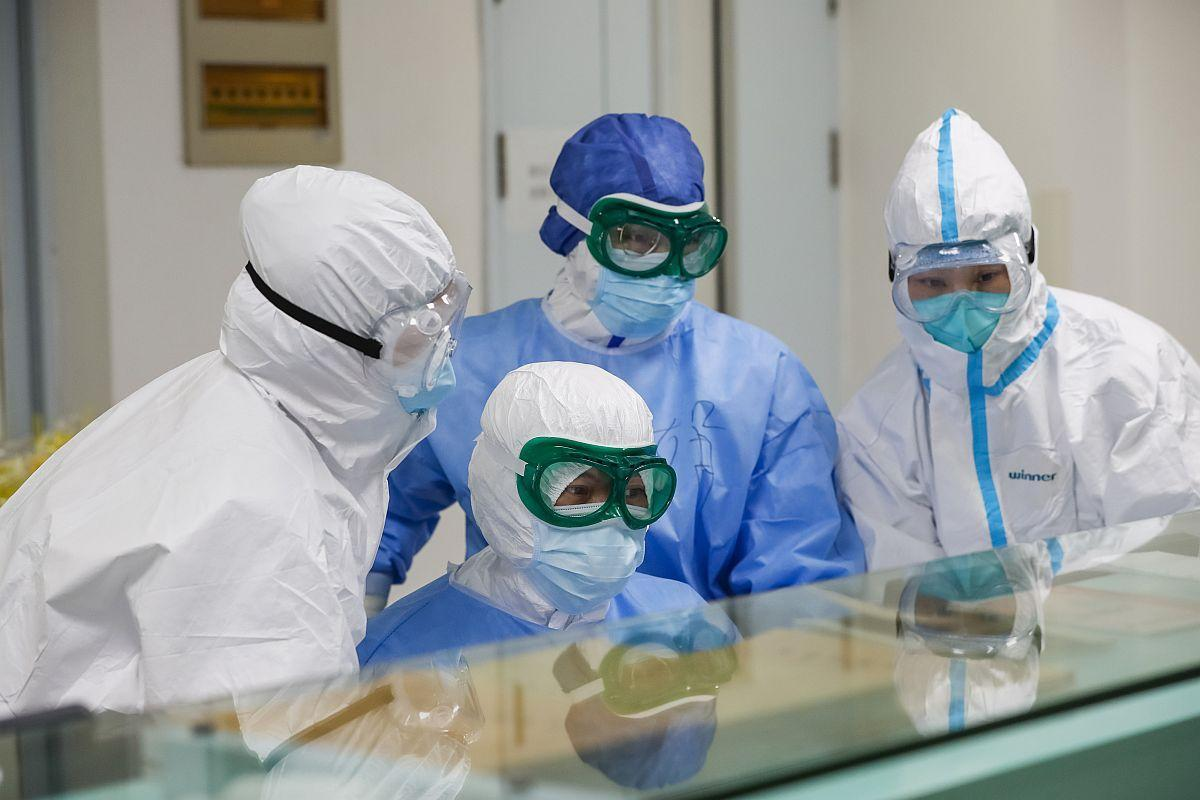Goggles: (515, 438, 678, 531), (588, 193, 730, 287), (886, 233, 1035, 322), (362, 269, 471, 368)
